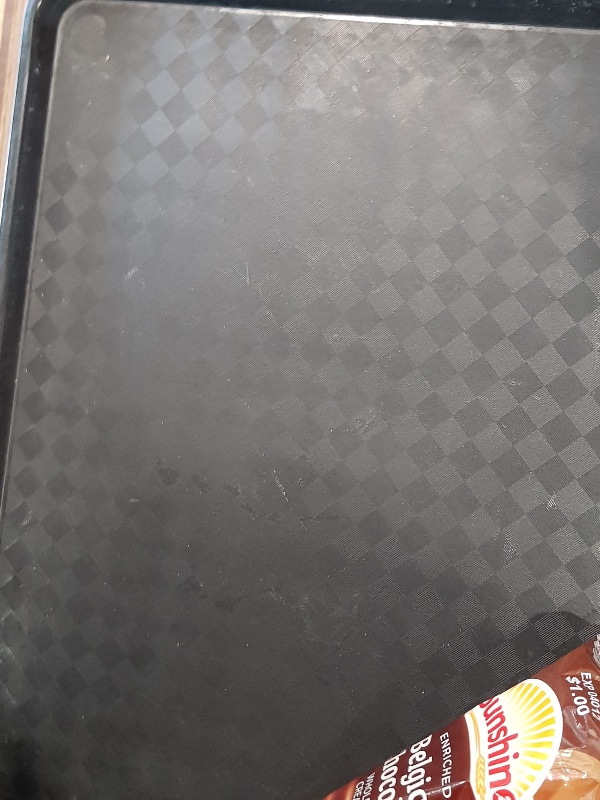Sunshine Belgium Chocolate Wholemeal Cream Bun: (319, 632, 600, 799)
